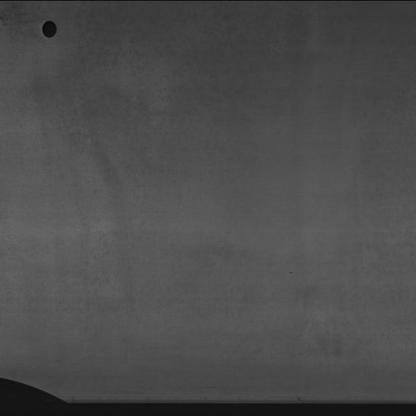crescent_gap: (0, 355, 83, 414)
punching_hole: (37, 5, 74, 44)
